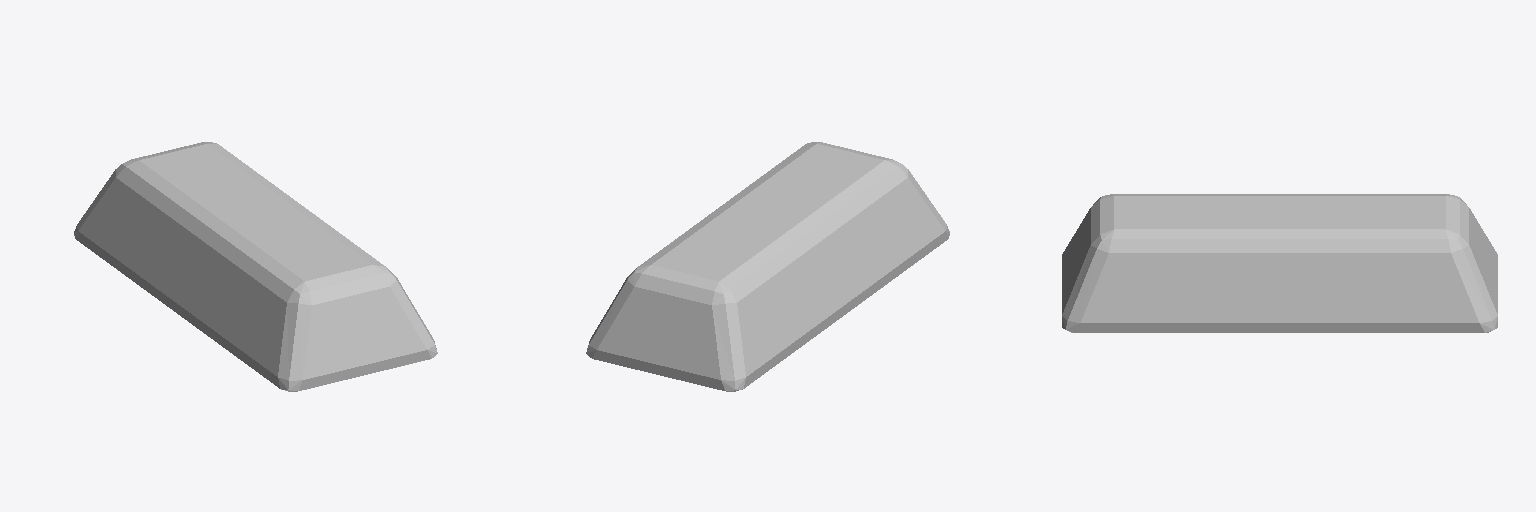
File: gold_bar.obj
3 renders of one model, left to right at view 1: azimuth 30°, elevation 25°; view 2: azimuth 150°, elevation 25°; view 3: azimuth 270°, elevation 25°, orthographic.
Parts seen in each view (by area): view 1: gold_bar_Cube.470; view 2: gold_bar_Cube.470; view 3: gold_bar_Cube.470.
Part boxes in pixels (bbox=[...]): gold_bar_Cube.470: bbox=[74, 142, 437, 391]; gold_bar_Cube.470: bbox=[586, 142, 949, 391]; gold_bar_Cube.470: bbox=[1062, 194, 1497, 332].
Bounding box in the file's own units: 0.2924 × 0.1556 × 0.7085.